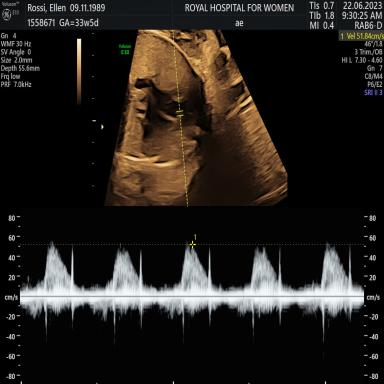Ultrasound-Waves: (24, 233, 361, 384)
